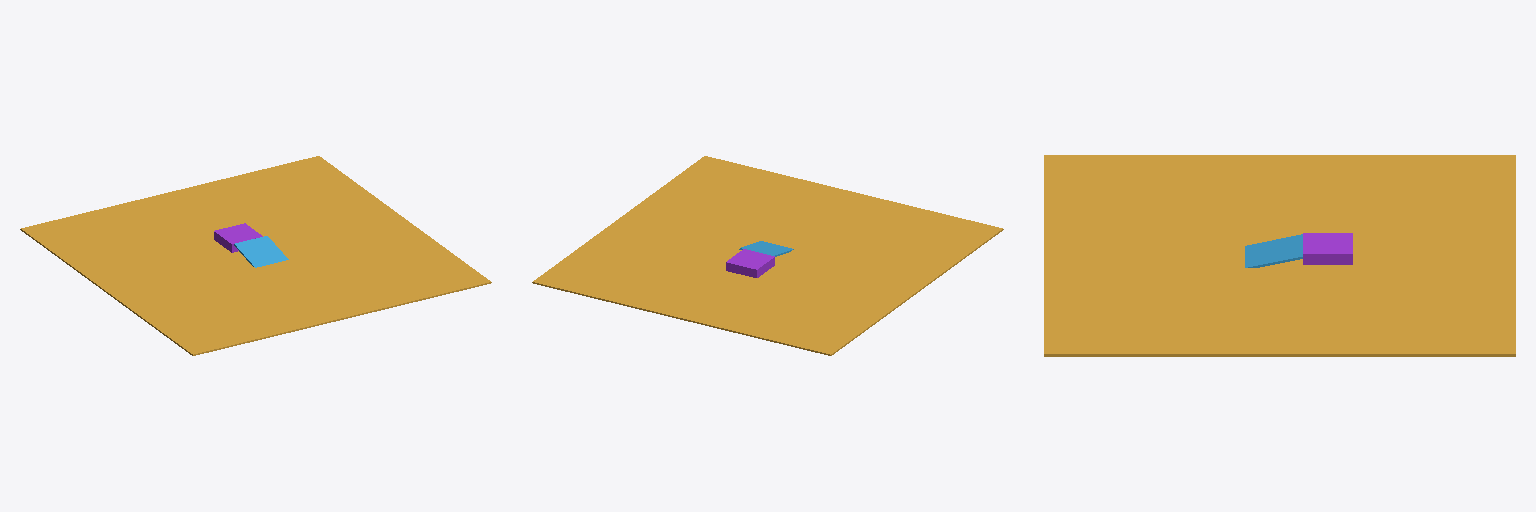
robot.urdf — multi_boxes:
<?xml version="1.0"?>
<robot name="multi_boxes">
  <!-- Note: Platform/ground boxes with large coordinates (-10 or 10) have been filtered out -->
  <link name="world"/>
  <!-- Box 1 -->
  <link name="multi_boxes_link">
    <visual>
      <origin xyz="0 0 0" rpy="0 0 0"/>
      <geometry>
        <mesh filename="box_models/box1.obj" scale="0.7415730337078652 0.7415730337078652 0.7415730337078652"/>
      </geometry>
      <material name="box1_material">
        <color rgba="0.3 0.7 0.9 0.5"/>
      </material>
    </visual>

    <collision name="multi_boxes">
      <origin xyz="0 0 0" rpy="0 0 0"/>
      <geometry>
        <mesh filename="box_models/box1.obj" scale="0.7415730337078652 0.7415730337078652 0.7415730337078652"/>
      </geometry>
    </collision>

    <inertial>
      <origin xyz="0 0 0" rpy="0 0 0"/>
      <mass value="33.33"/>
      <inertia ixx="33.33" ixy="0.0" ixz="0.0" iyy="33.33" iyz="0.0" izz="33.33"/>
    </inertial>
  </link>

  <!-- Box 2 -->
  <link name="box2_link">
    <visual>
      <origin xyz="0 0 0" rpy="0 0 0"/>
      <geometry>
        <mesh filename="box_models/box2.obj" scale="0.7415730337078652 0.7415730337078652 0.7415730337078652"/>
      </geometry>
      <material name="box2_material">
        <color rgba="0.7 0.3 0.9 0.5"/>
      </material>
    </visual>

    <collision name="box2">
      <origin xyz="0 0 0" rpy="0 0 0"/>
      <geometry>
        <mesh filename="box_models/box2.obj" scale="0.7415730337078652 0.7415730337078652 0.7415730337078652"/>
      </geometry>
    </collision>

    <inertial>
      <origin xyz="0 0 0" rpy="0 0 0"/>
      <mass value="33.33"/>
      <inertia ixx="33.33" ixy="0.0" ixz="0.0" iyy="33.33" iyz="0.0" izz="33.33"/>
    </inertial>
  </link>

  <!-- Box 3 -->
  <link name="box3_link">
    <visual>
      <origin xyz="0 0 0" rpy="0 0 0"/>
      <geometry>
        <mesh filename="box_models/box3.obj" scale="0.7415730337078652 0.7415730337078652 0.7415730337078652"/>
      </geometry>
      <material name="box3_material">
        <color rgba="0.9 0.7 0.3 0.5"/>
      </material>
    </visual>

    <collision name="box3">
      <origin xyz="0 0 0" rpy="0 0 0"/>
      <geometry>
        <mesh filename="box_models/box3.obj" scale="0.7415730337078652 0.7415730337078652 0.7415730337078652"/>
      </geometry>
    </collision>

    <inertial>
      <origin xyz="0 0 0" rpy="0 0 0"/>
      <mass value="33.33"/>
      <inertia ixx="33.33" ixy="0.0" ixz="0.0" iyy="33.33" iyz="0.0" izz="33.33"/>
    </inertial>
  </link>

  <!-- Fixed joint to world for Box 1 -->
  <joint name="world_to_multi_boxes" type="fixed">
    <parent link="world"/>
    <child link="multi_boxes_link"/>
    <origin xyz="0 0 0" rpy="0 0 0"/>
  </joint>

  <!-- Fixed joint to world for Box 2 -->
  <joint name="world_to_box2" type="fixed">
    <parent link="world"/>
    <child link="box2_link"/>
    <origin xyz="0 0 0" rpy="0 0 0"/>
  </joint>

  <!-- Fixed joint to world for Box 3 -->
  <joint name="world_to_box3" type="fixed">
    <parent link="world"/>
    <child link="box3_link"/>
    <origin xyz="0 0 0" rpy="0 0 0"/>
  </joint>

</robot>

--- Render facts (derived) ---
The picture shows the robot from 3 angles, left to right: view 1: azimuth 30°, elevation 25°; view 2: azimuth 150°, elevation 25°; view 3: azimuth 270°, elevation 25°; orthographic projection.
Robot: multi_boxes — 4 links, 3 joints (3 fixed); root link world; default pose: all joints at 0.
Visible links, largest first — view 1: box3_link, multi_boxes_link, box2_link; view 2: box3_link, box2_link; view 3: box3_link, box2_link, multi_boxes_link.
Link boxes in pixels (x1,y1,x2,y2): box3_link: [20, 156, 491, 355]; multi_boxes_link: [234, 236, 288, 267]; box2_link: [214, 223, 262, 252]; box3_link: [532, 156, 1003, 355]; box2_link: [726, 249, 774, 277]; box3_link: [1044, 155, 1515, 356]; box2_link: [1303, 233, 1352, 264]; multi_boxes_link: [1245, 234, 1302, 267].
Size in the robot's own frame: 14.83 by 14.83 by 0.7626 metres.
3 mesh visuals loaded from 3 distinct referenced files (3 OBJ).
